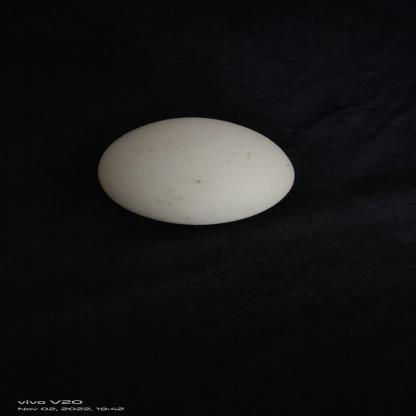egg: (93, 117, 304, 226)
